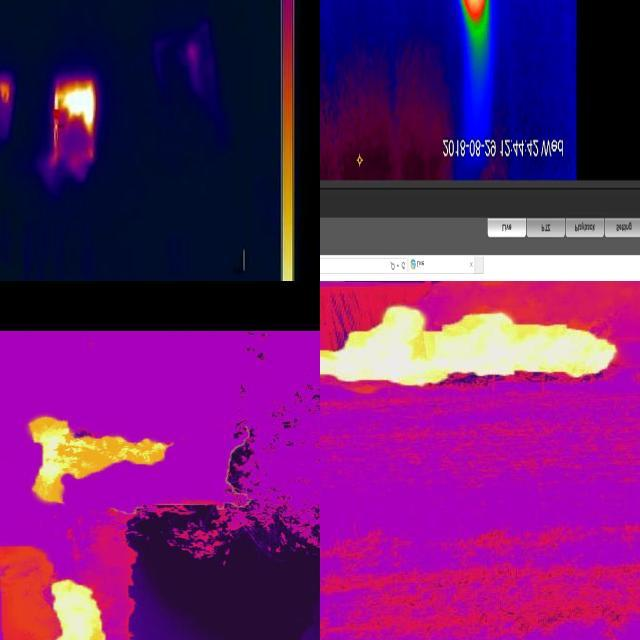fire: (321, 300, 623, 394), (27, 412, 174, 510), (53, 76, 97, 168), (49, 574, 109, 640), (456, 1, 490, 59), (1, 77, 14, 108)
